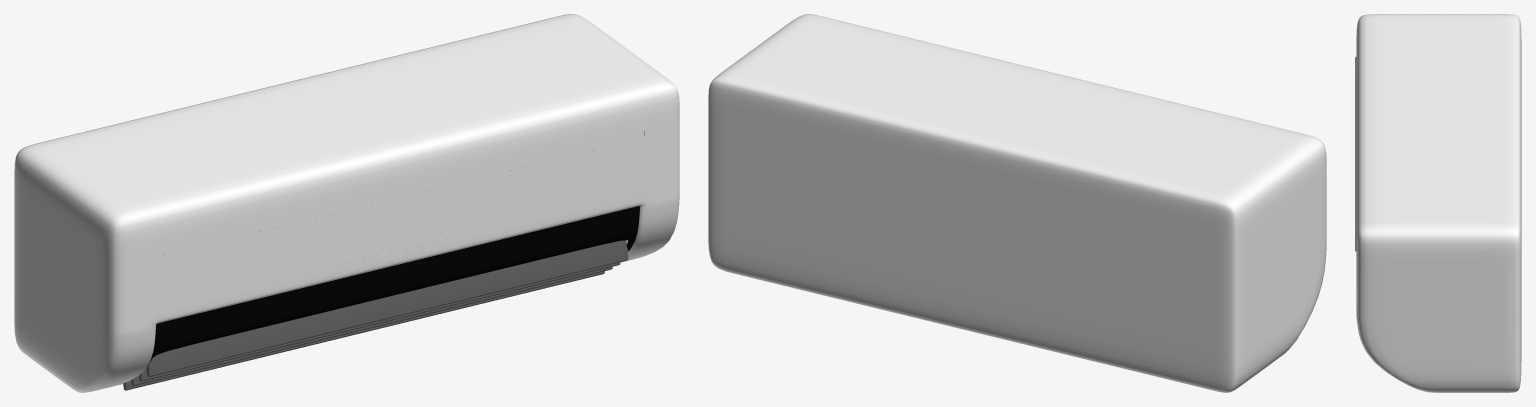
File: electronic6.glb
3 views of the same model, side by side, from view 1: azimuth 30°, elevation 25°; view 2: azimuth 150°, elevation 25°; view 3: azimuth 270°, elevation 25° (orthographic). The views are drawn at different scales.
Visible parts, largest first — view 1: Cube.001; view 2: Cube.001; view 3: Cube.001.
Boxes of the visible parts, x1,y1,x2,y2 form: Cube.001: (14,14,679,392); Cube.001: (708,14,1326,392); Cube.001: (1355,14,1521,392).
Size of the model in its own units: 1.39 by 0.4868 by 0.4388.
1 material, 1 textured.
